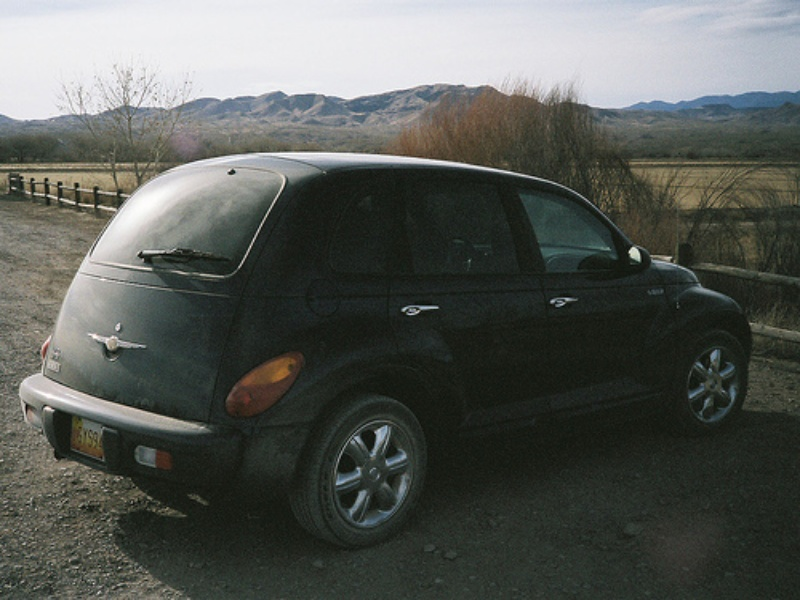car: (18, 153, 754, 547)
